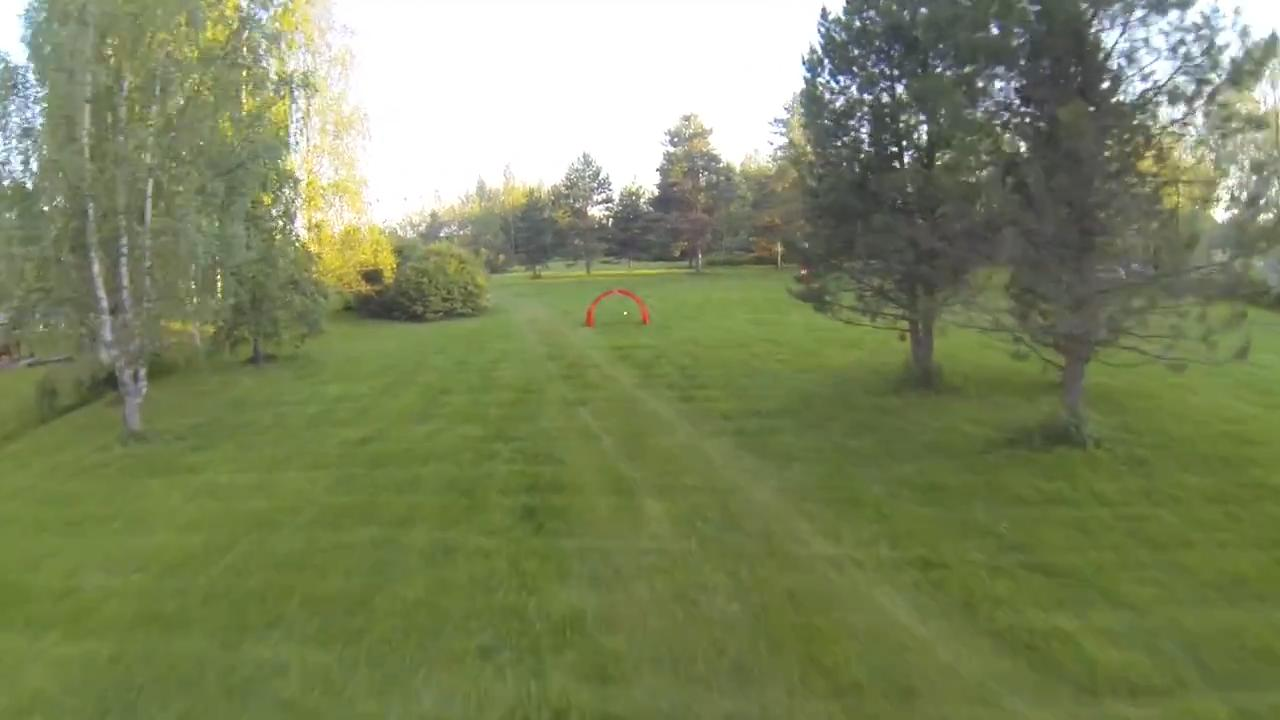gate: (583, 286, 655, 330)
